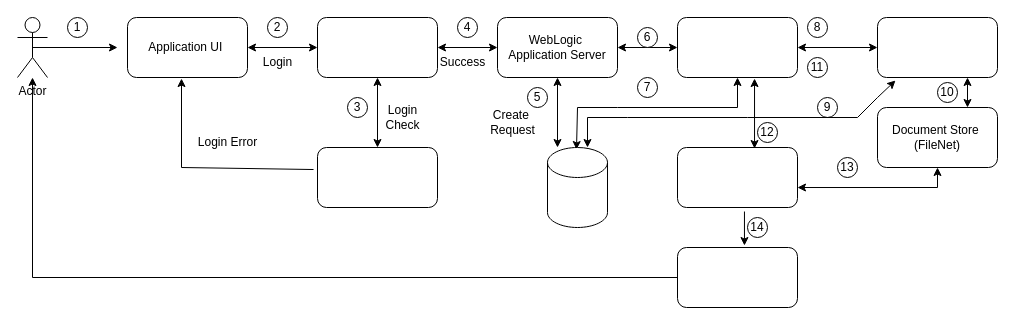
Image size: 1015x325. Some labels were removed from this diagram. The centre of each missing label's shape, as x and y in pixels:
AD Authentication Server: point (377, 177)
Apache Server: point (377, 47)
Mail Notification Service: point (737, 177)
Oracle Database: point (577, 187)
SMTP Server: point (737, 277)
Tomcat Batch Job Server: point (737, 47)
Tomcat ReportGen Server: point (937, 47)
